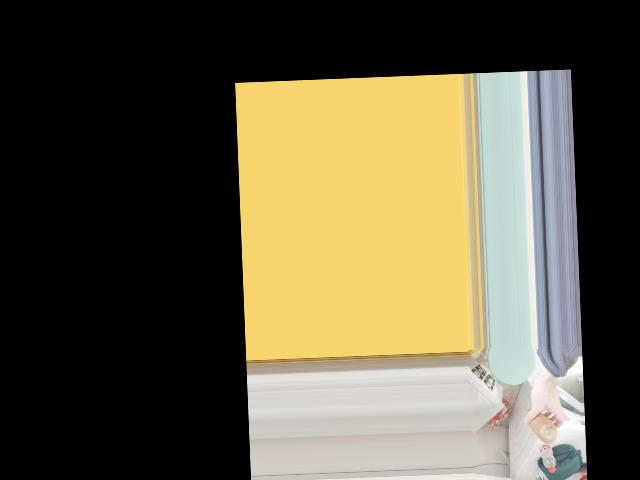sweet_potato: (521, 408, 554, 444)
